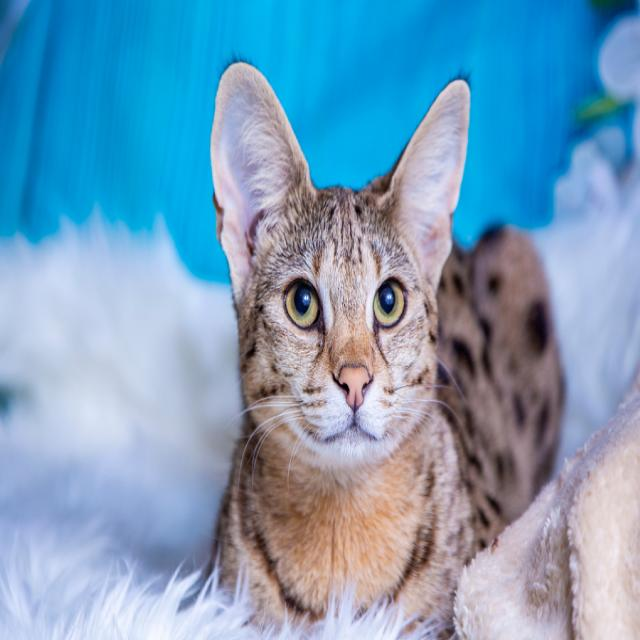Savannah: (196, 54, 571, 640)
